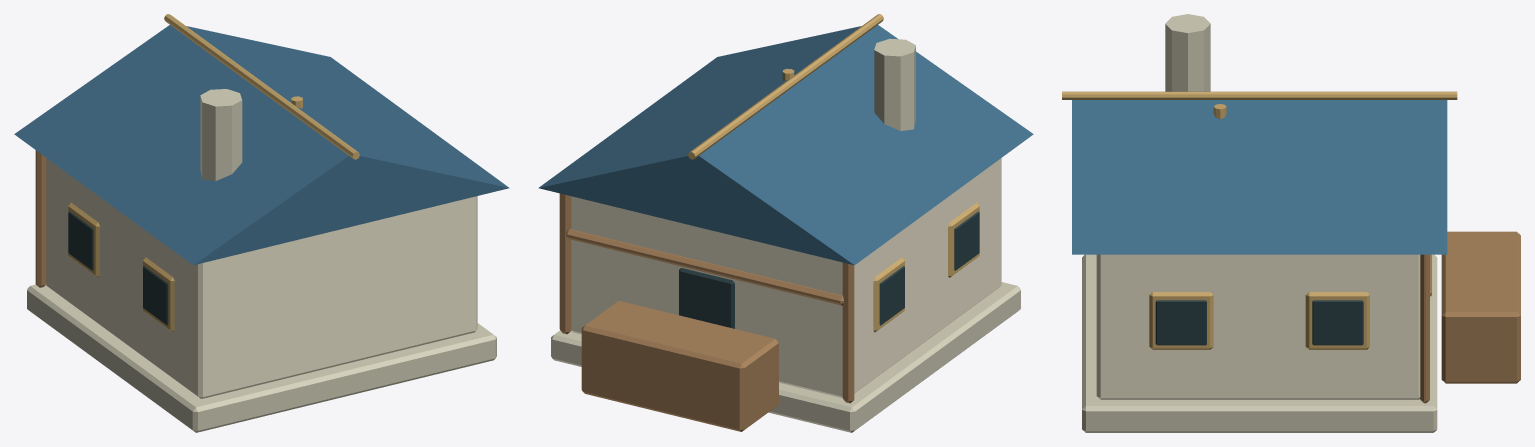
The model's file is level_02.glb.
The picture shows the model from 3 angles, left to right: view 1: azimuth 30°, elevation 25°; view 2: azimuth 150°, elevation 25°; view 3: azimuth 270°, elevation 25°; orthographic projection. The views are drawn at different scales.
Parts seen in each view (by area): view 1: workshop — level 02; view 2: workshop — level 02; view 3: workshop — level 02.
Part boxes in pixels (x1,y1,x2,y2): workshop — level 02: [14, 14, 509, 432]; workshop — level 02: [538, 14, 1033, 432]; workshop — level 02: [1062, 14, 1520, 432].
Size of the model in its own units: 3.88 by 3.3 by 4.64.
